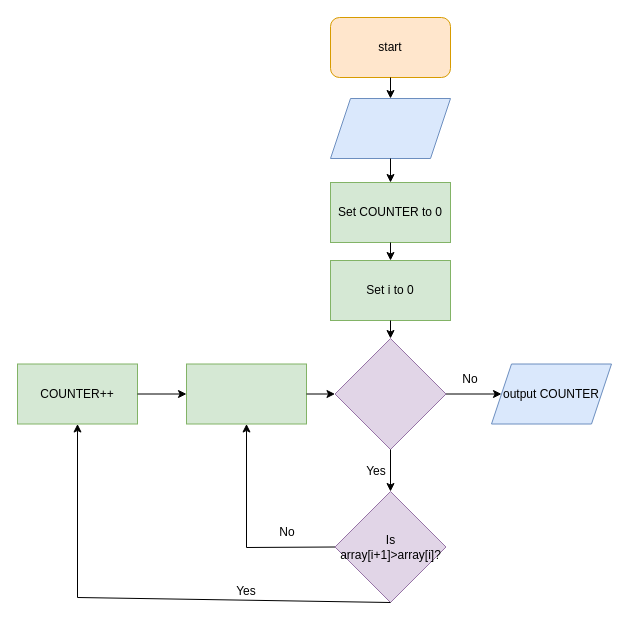
This 629x628 diagram has some shape labels left out. The centre of each missing label's shape, as x and y in pixels:
"i++" goes at point (246, 393).
"input array" goes at point (390, 128).
"Is i < array.length-1?" goes at point (390, 394).
